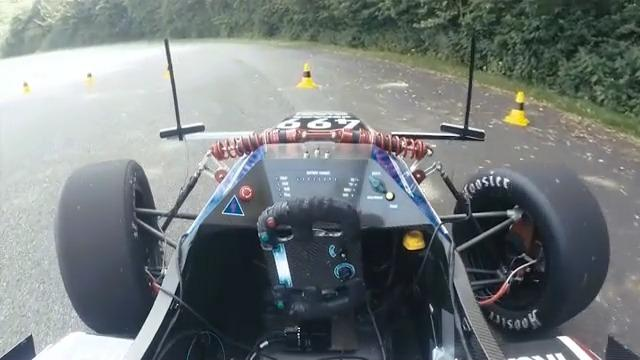yellow_cone: (500, 88, 532, 129), (294, 60, 321, 93), (80, 68, 99, 91), (164, 63, 177, 80)
